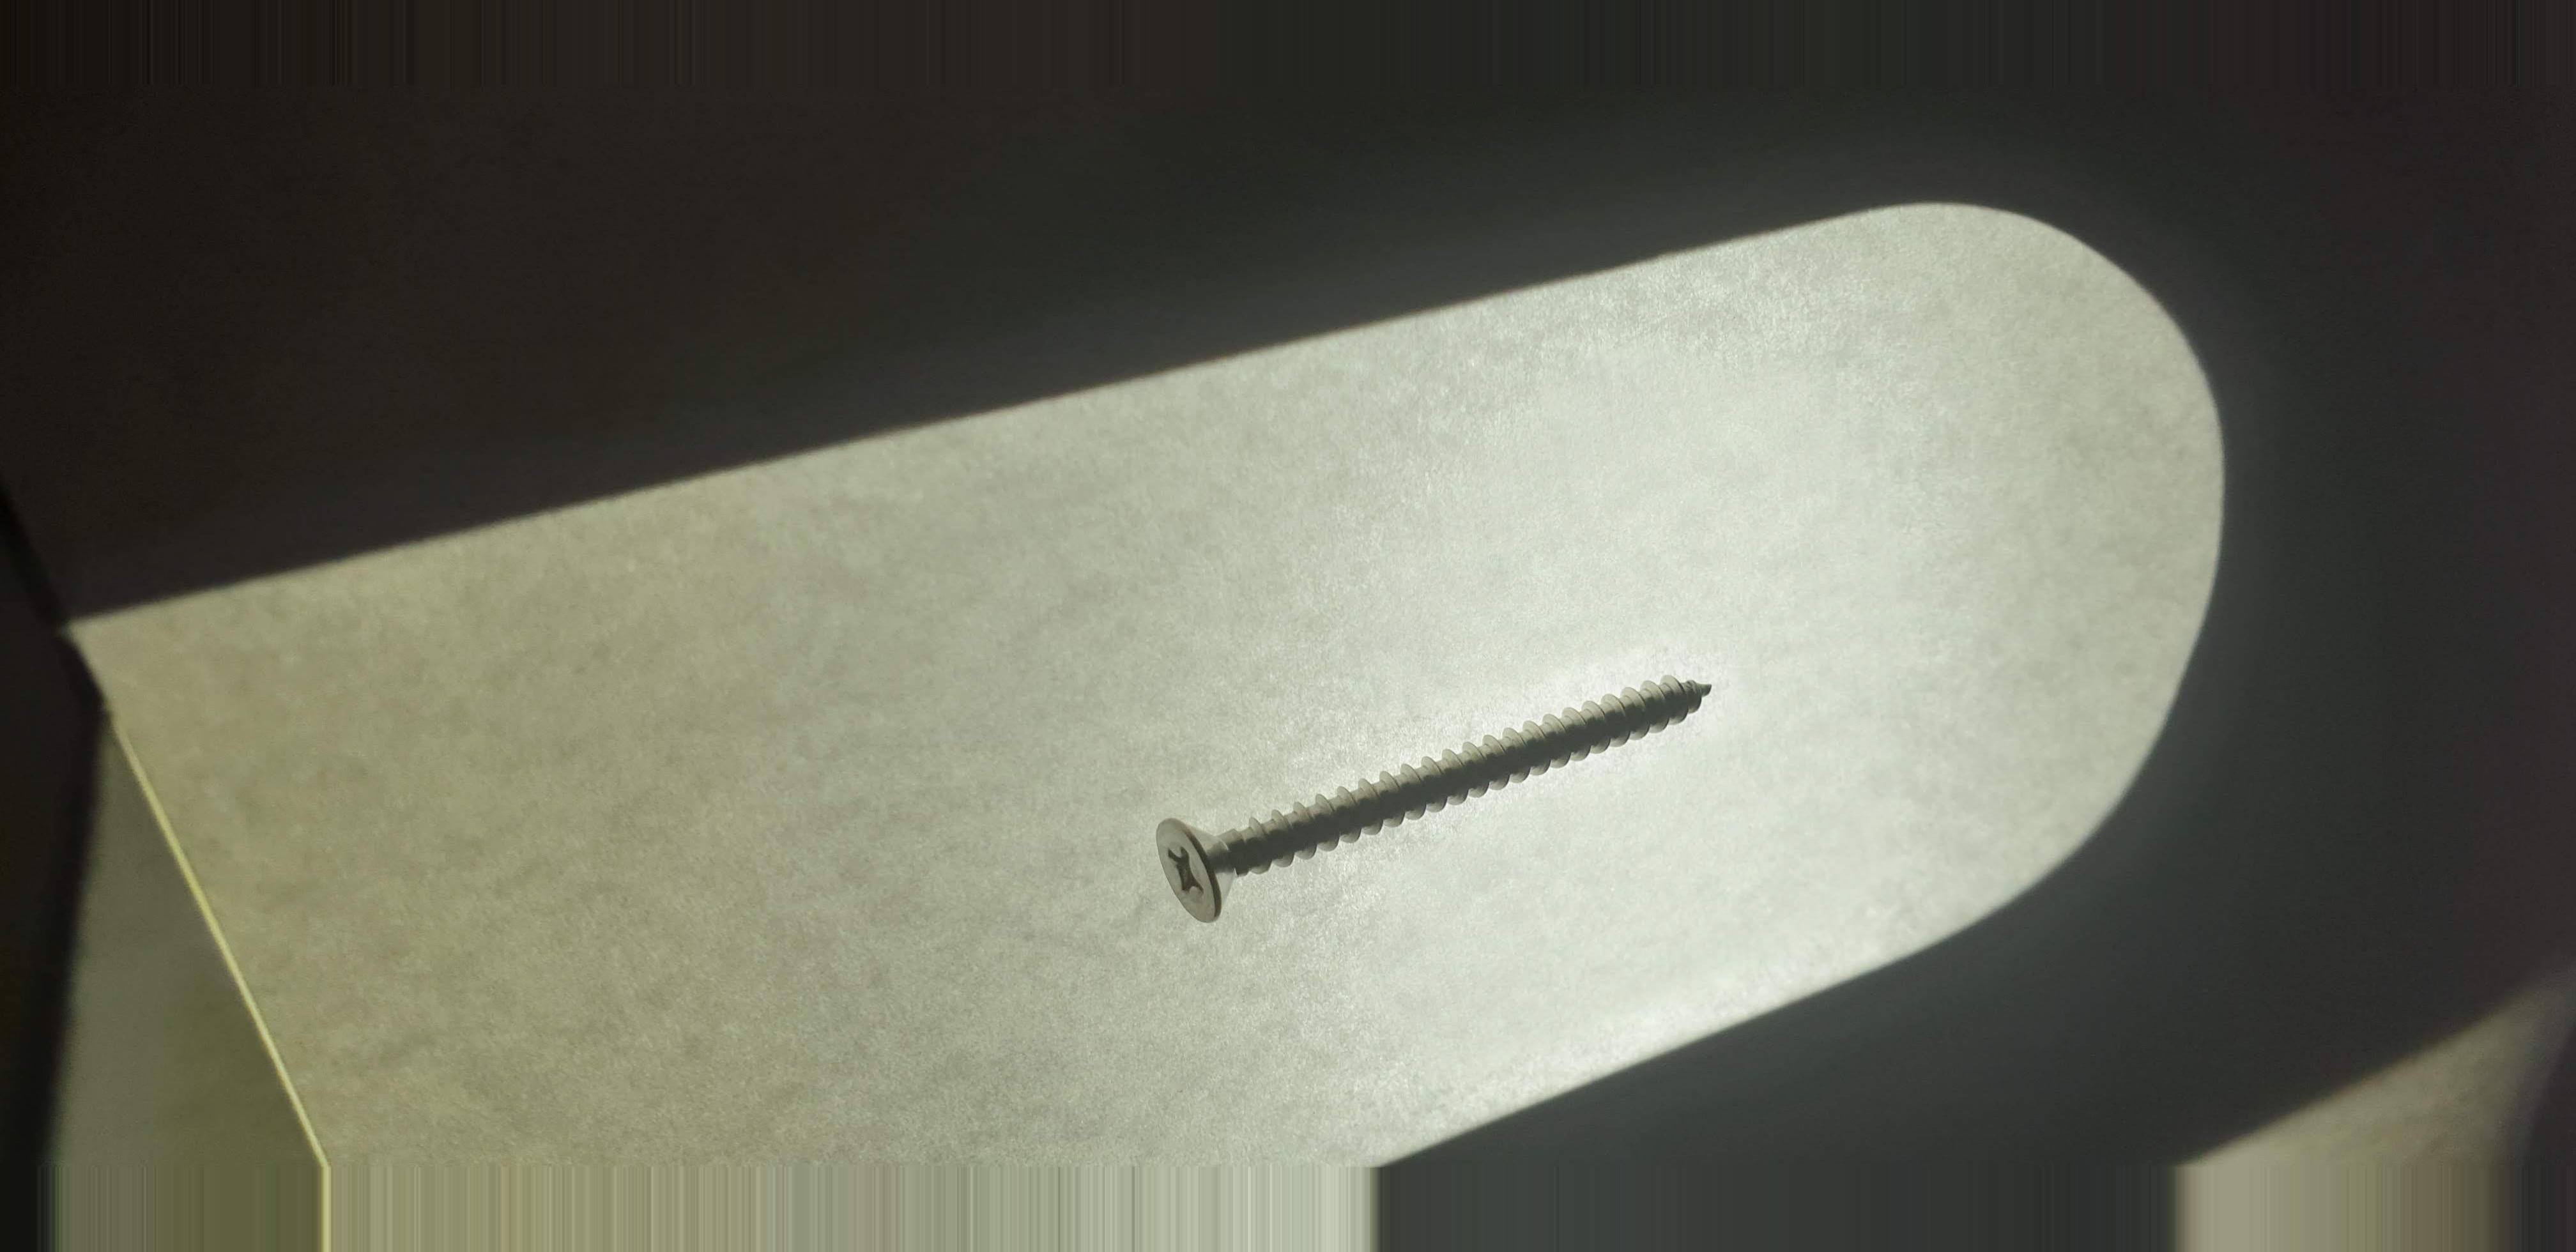S001: (1109, 647, 1756, 948)
